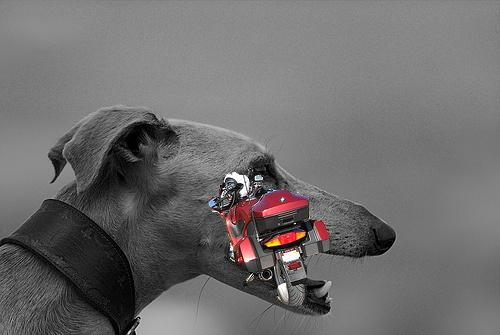tampered: (208, 162, 331, 306)
